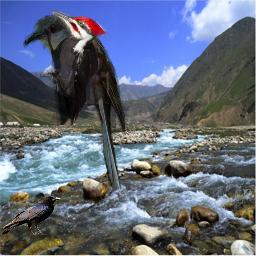Crow: (1, 195, 60, 235)
Cuckoo: (23, 15, 129, 189)
Woodpecker: (40, 10, 109, 125)
